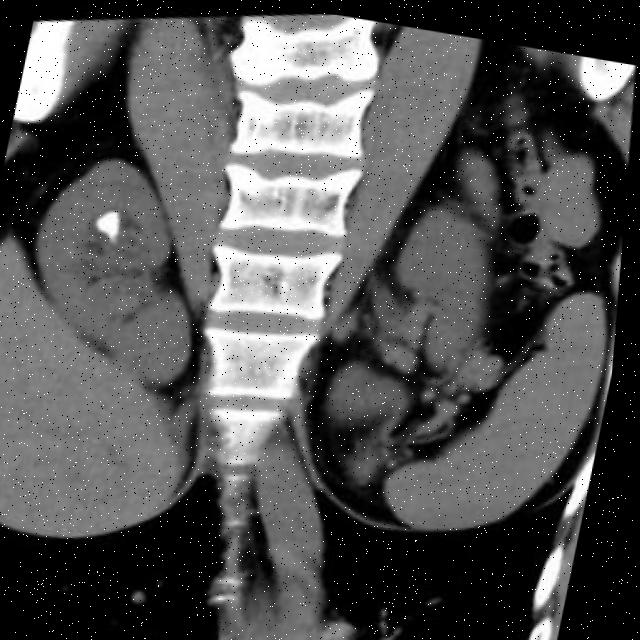Tas_Var: (87, 202, 139, 251)
